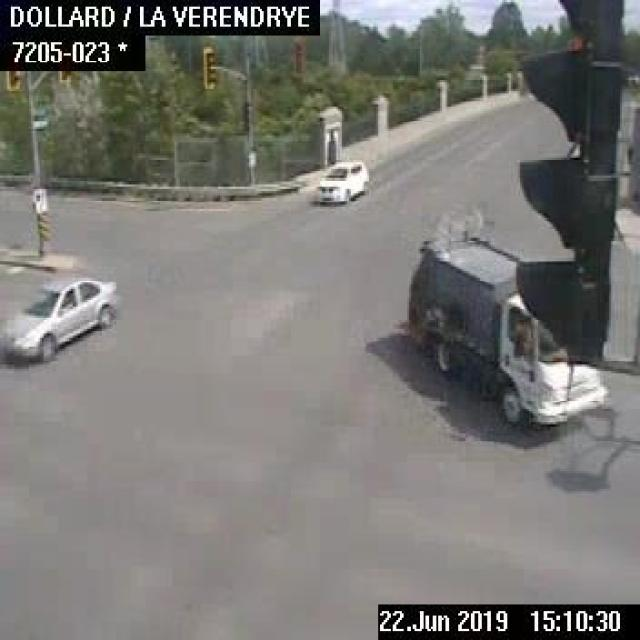vehicle: (400, 225, 611, 429), (0, 269, 122, 362), (313, 158, 371, 204)
